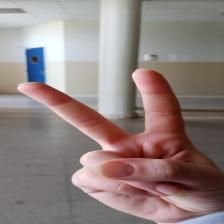two: (16, 68, 215, 212)
